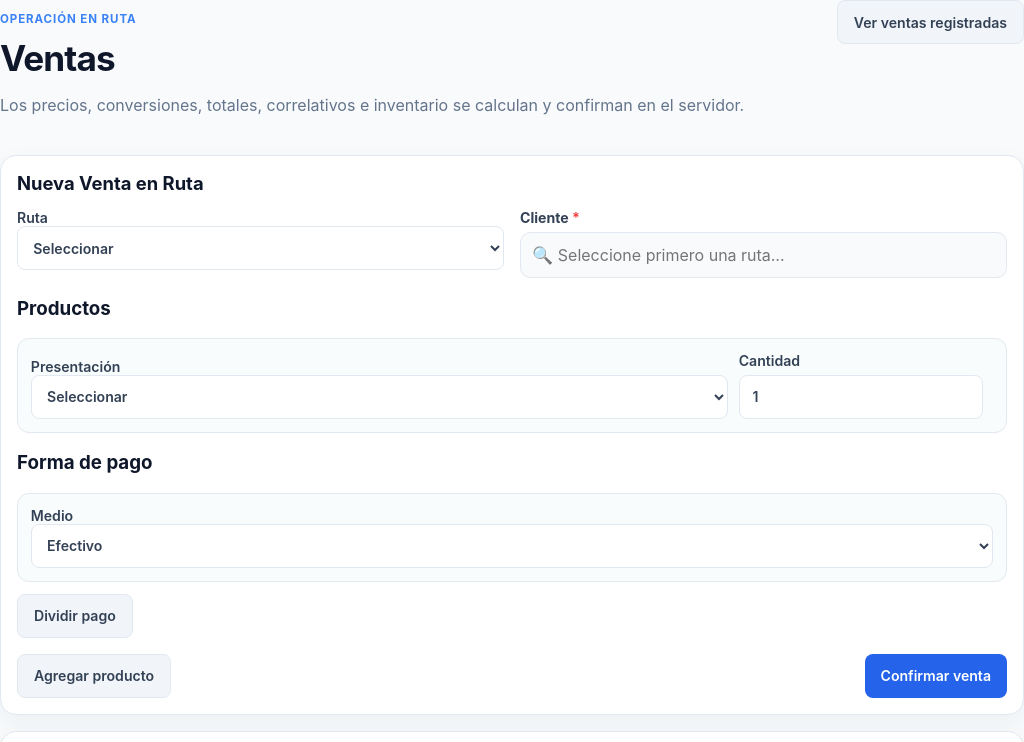
Test: SalesPage › permite registrar abono en ruta y muestra botones para enviar por WhatsApp y descargar PDF
Select "R-01 · Ruta norte" in the dropdown labelled "Ruta". click: (260, 248)
box: [17,226,504,270]
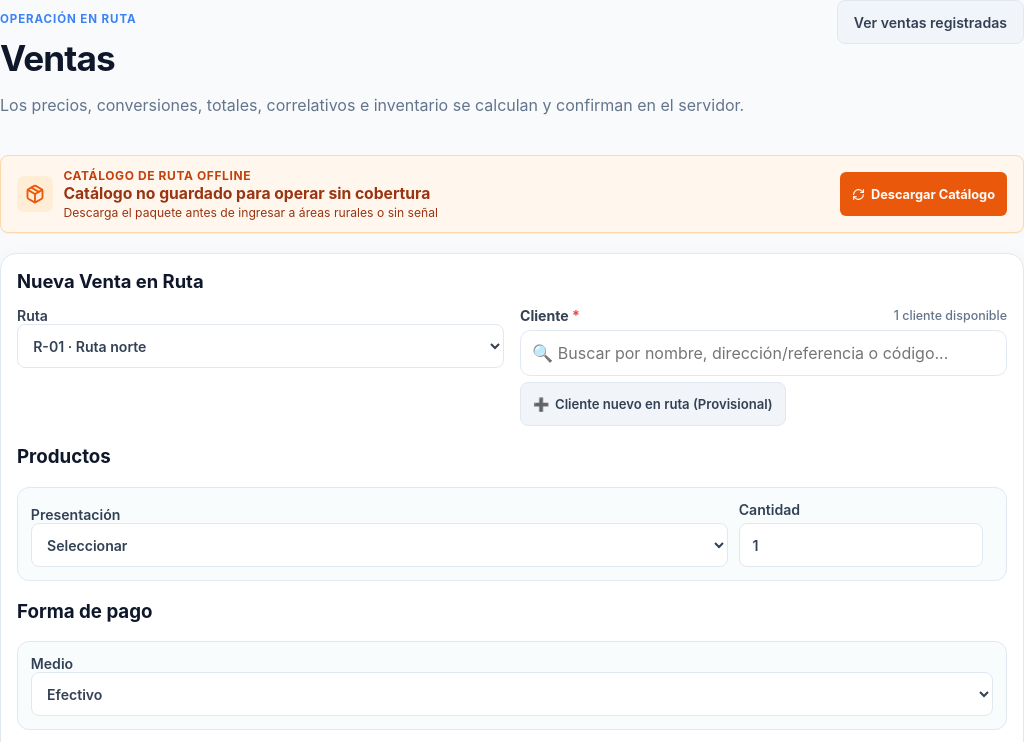
// Seleccionar cliente con deuda
Select "CLI-001 · Abarrotes La Fe" in the dropdown labelled "Cliente". click: (544, 316)
box: [520,307,1007,324]
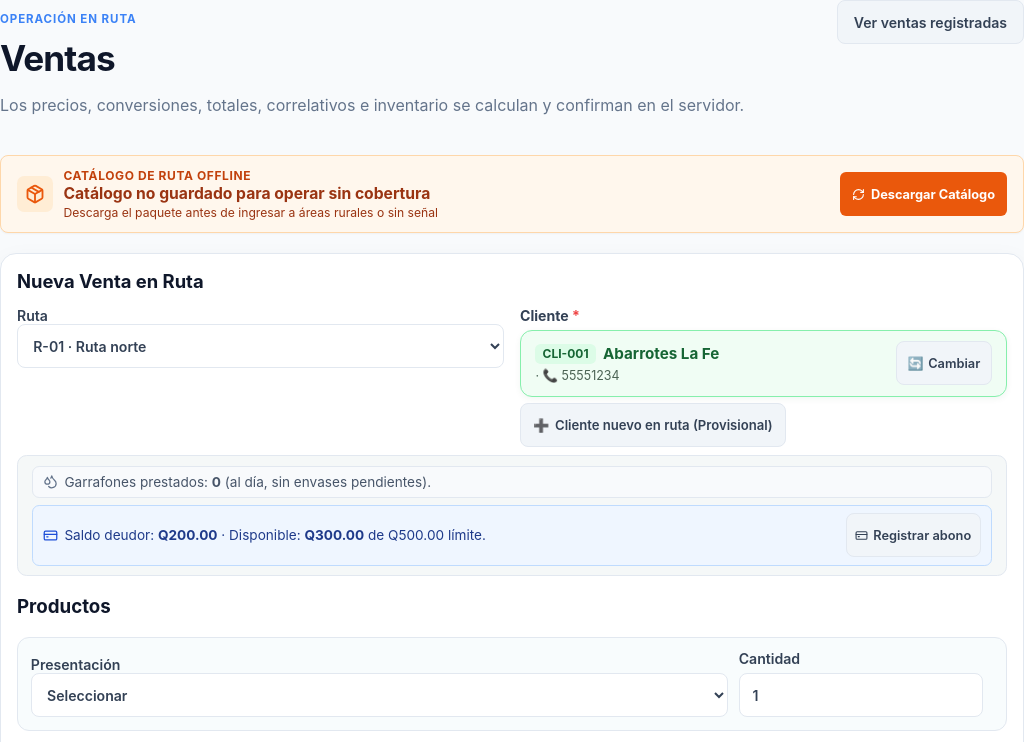
// Abrir formulario de abono
Click the button "Registrar abono". click: click(913, 535)
box: [846,513,981,557]
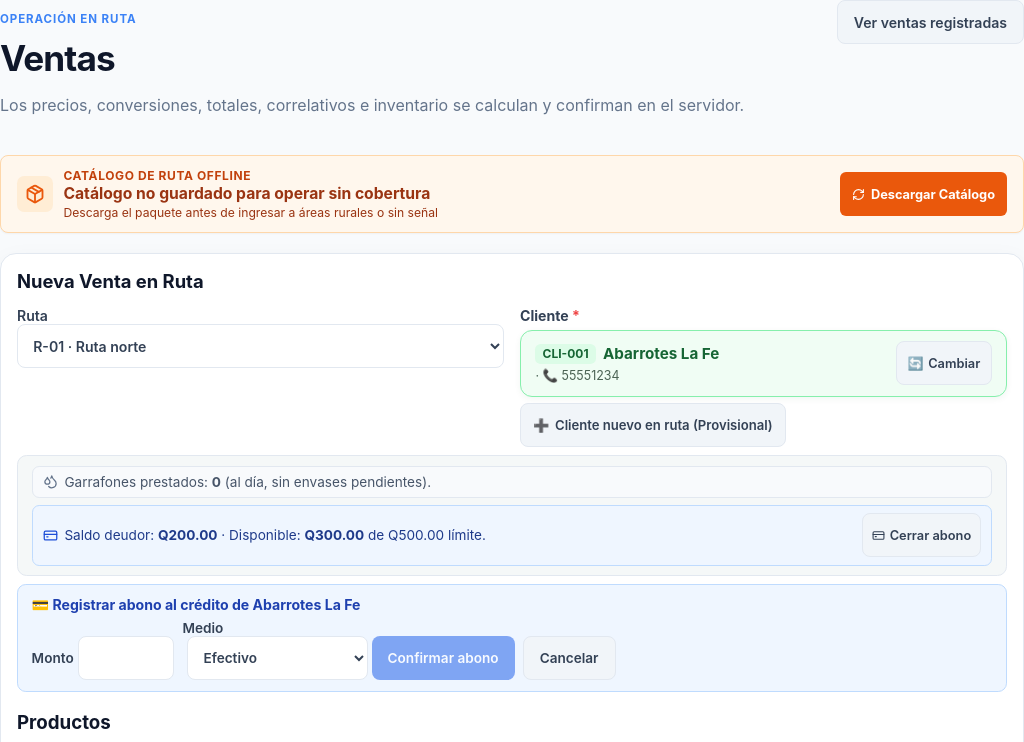
// Llenar monto y registrar
Type "50" into the number field labelled "Monto". click: (126, 658)
box: [78,636,174,680]
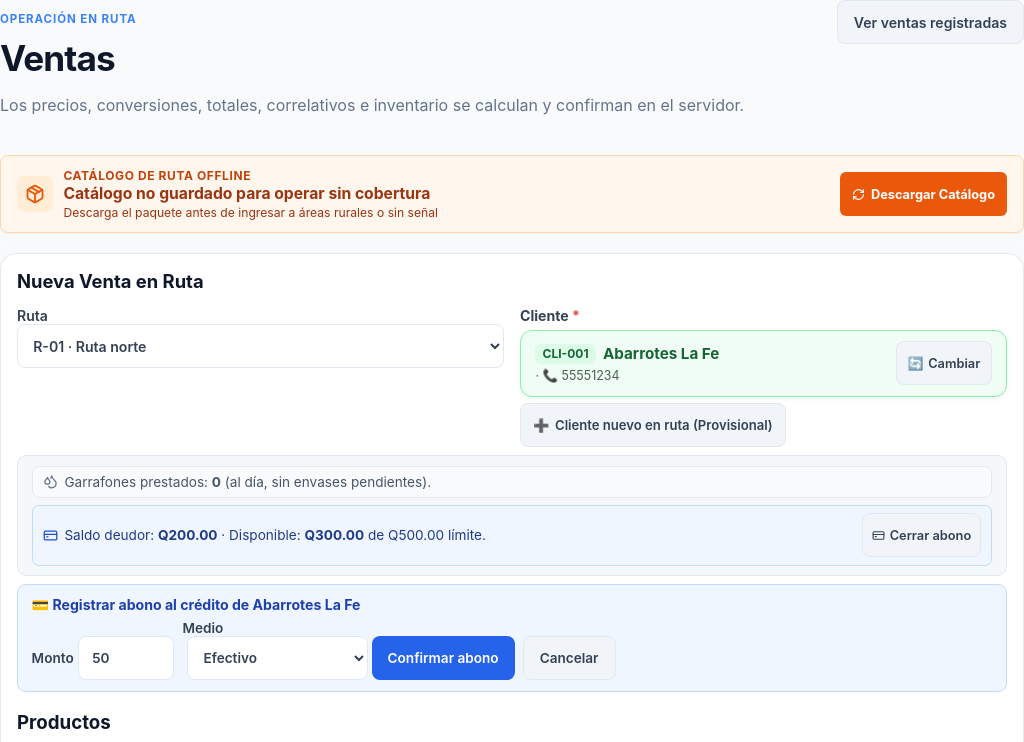
Click the button "Confirmar abono". click: click(443, 658)
box: [372,636,515,680]
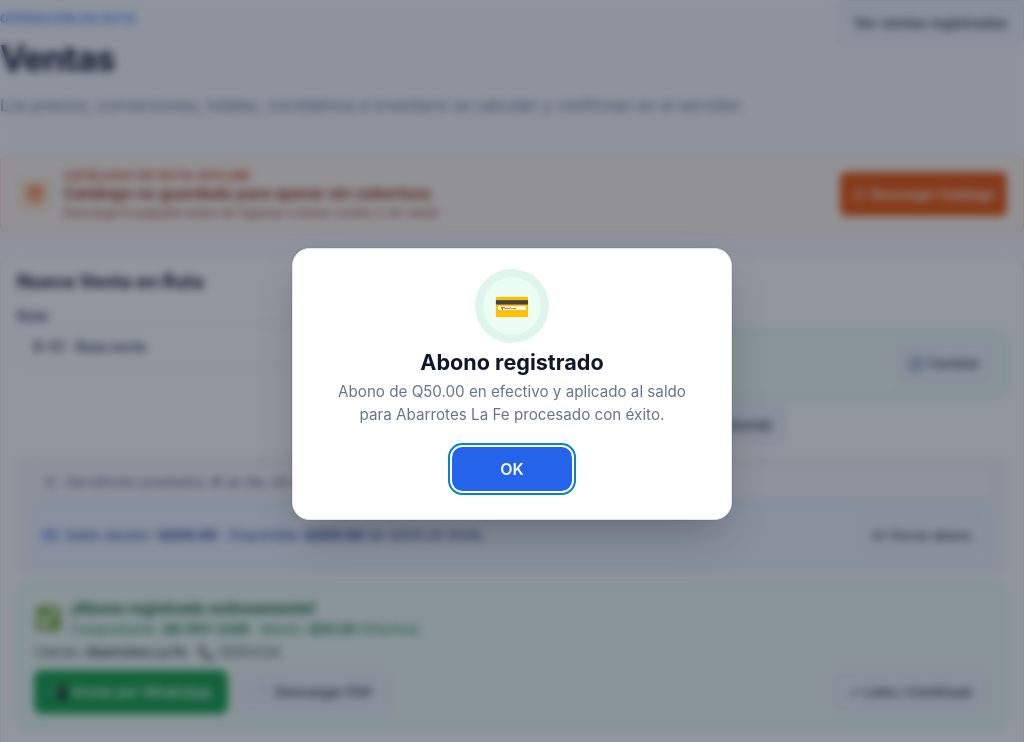
Expected: the text "¡Abono registrado exitosamente!" is shown, [70,599,316,618]
Expected: the text "AB-PAY-UUID" is shown, [162,621,250,637]
Expected: the button "📲 Enviar por WhatsApp" is shown, [34,670,228,714]
